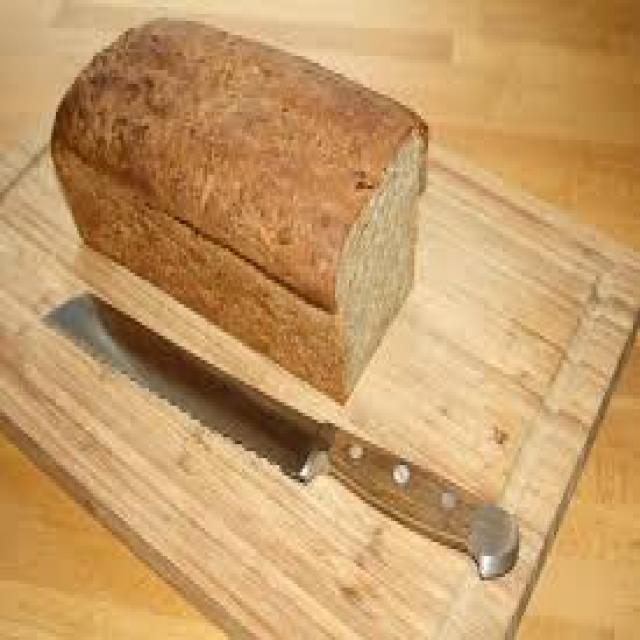Knife: (44, 294, 517, 577)
